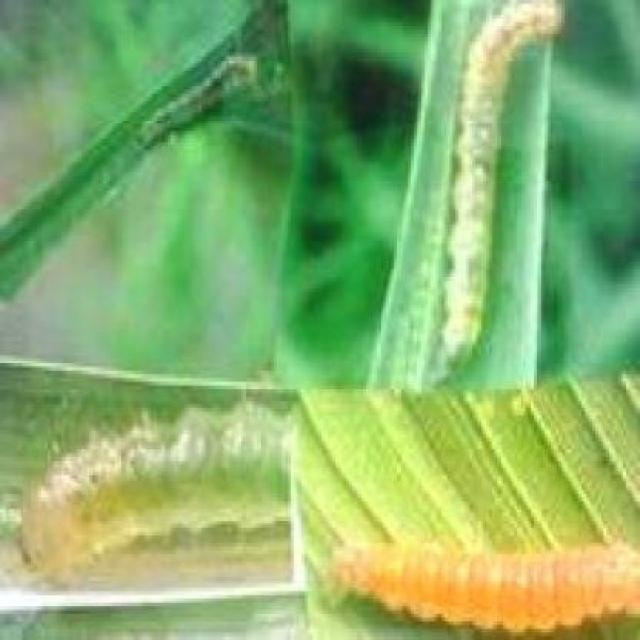leaf-folder: (427, 6, 604, 377), (27, 393, 281, 592), (326, 506, 640, 640), (131, 36, 252, 167)
